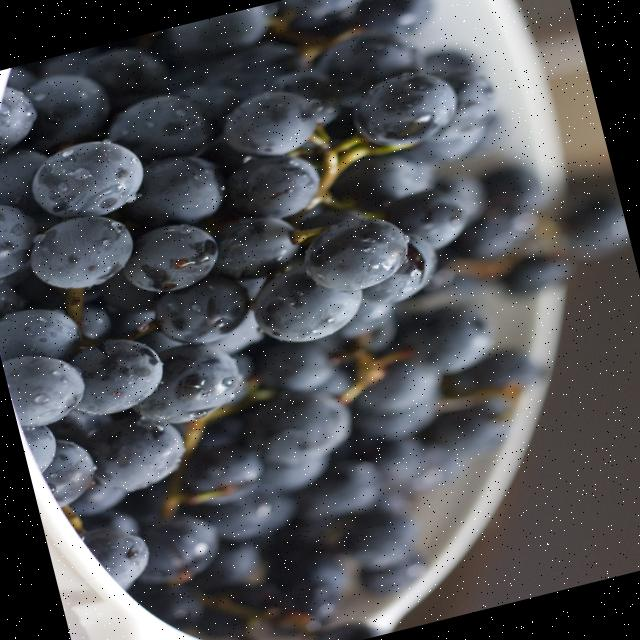grape: (0, 0, 495, 584)
